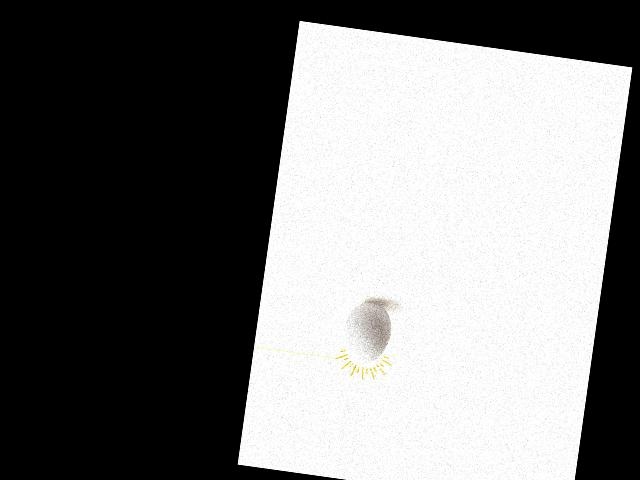egg: (340, 299, 394, 365)
